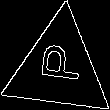P_W: (33, 47, 85, 90)
